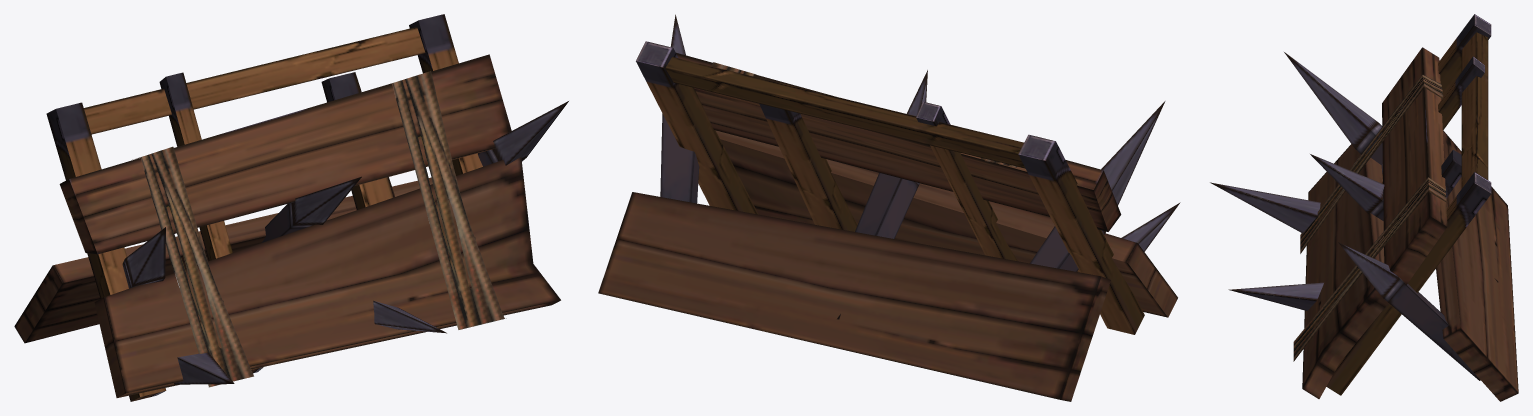
File: 2_WGJ_FangYuDun_01.FBX
3 renders of one model, left to right at view 1: azimuth 30°, elevation 25°; view 2: azimuth 150°, elevation 25°; view 3: azimuth 270°, elevation 25°, orthographic. The views are drawn at different scales.
Parts seen in each view (by area): view 1: 2_WGJ_FangYuDun_01; view 2: 2_WGJ_FangYuDun_01; view 3: 2_WGJ_FangYuDun_01.
Boxes of the visible parts, <box> form: 2_WGJ_FangYuDun_01: <box>14,14,568,401</box>; 2_WGJ_FangYuDun_01: <box>598,14,1180,401</box>; 2_WGJ_FangYuDun_01: <box>1210,14,1518,401</box>.
Size of the model in its own units: 297 by 151 by 194.
